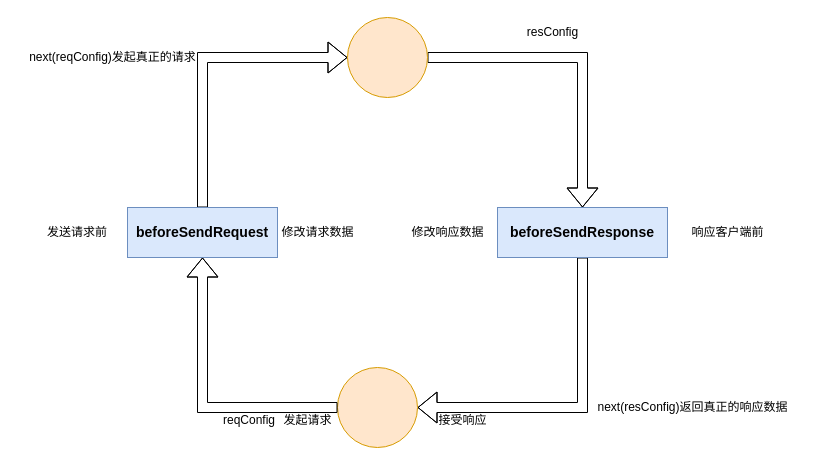
This 814x465 diagram has some shape labels left out. The shapes that lost their labels are listed below. From the top down, each one's centre as x and y in pixels, then its label:
(387,57): 服务器
(377,407): 客户端
